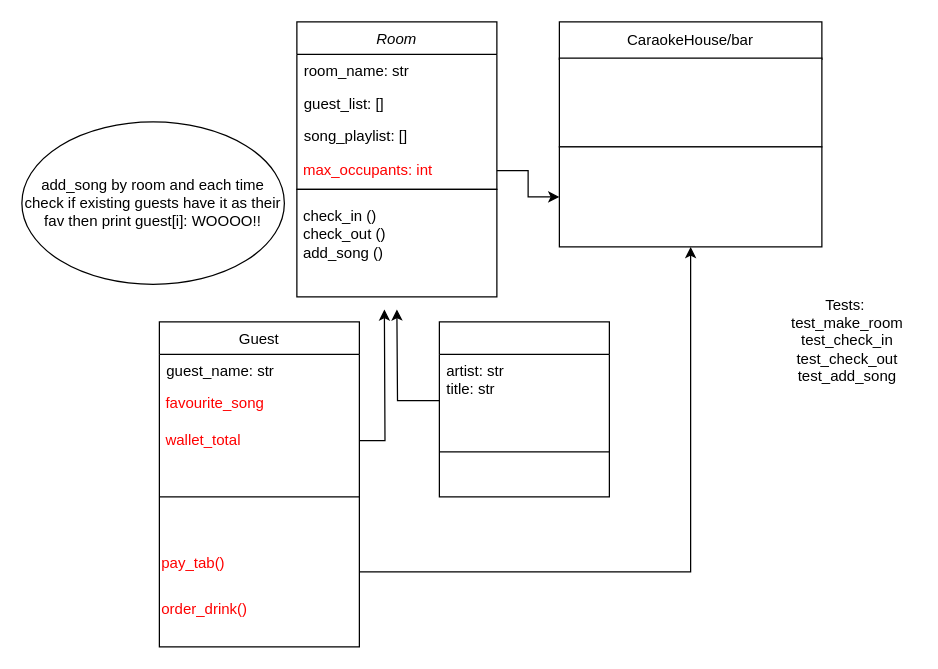
Image size: 938x669. Some labels were removed from this diagram. The box of each missing label's shape, as (x1, y1, x2, y2) in pixels:
make_room (): (558, 146, 822, 247)
name: str bar tab: {Guest: balance} till: float rooms: []: (558, 57, 822, 147)
Songs: (438, 321, 609, 497)
